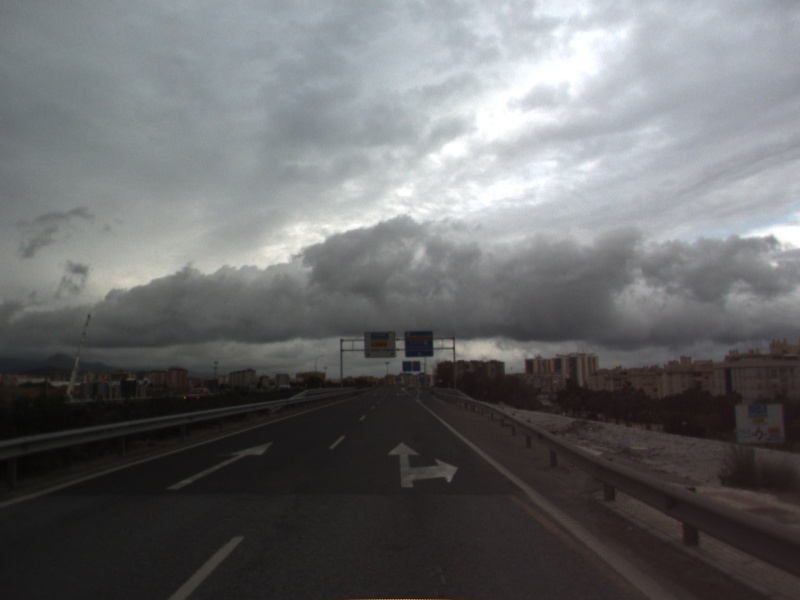STRAIGHT: (163, 439, 275, 492)
STRAIGHT_RIGHT: (385, 440, 460, 490)
